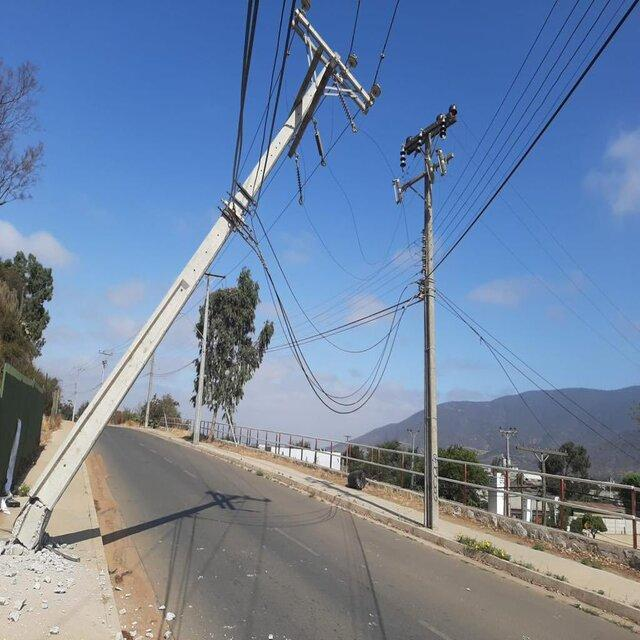Inclined Pole: (13, 0, 387, 547)
